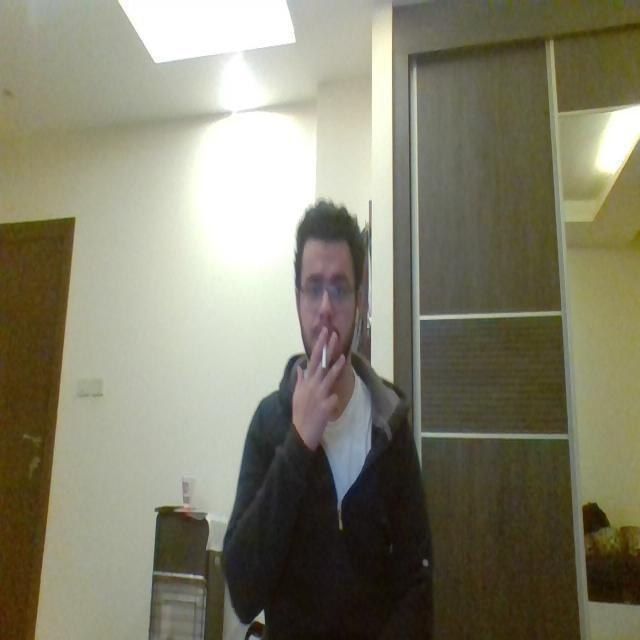smoking: (305, 331, 346, 376)
